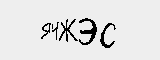Ж: (59, 17, 78, 43)
С: (100, 21, 122, 51)
Ч: (49, 21, 61, 39)
Э: (76, 17, 98, 48)
Я: (39, 22, 52, 41)
